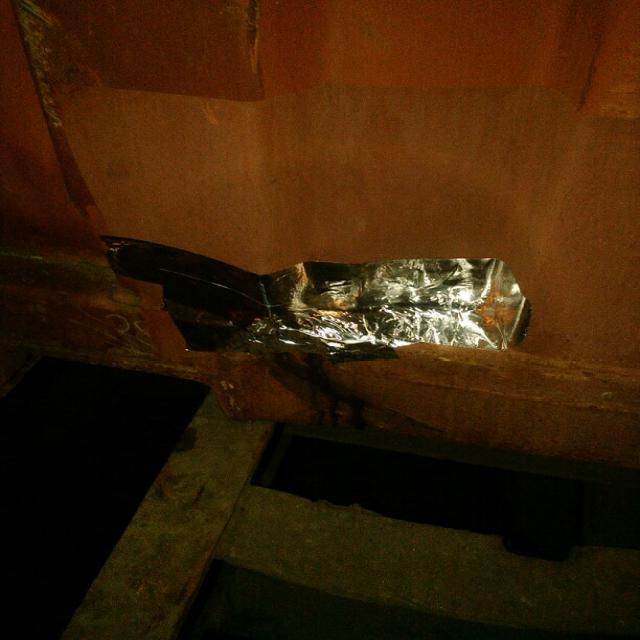dent: (94, 217, 636, 464)
